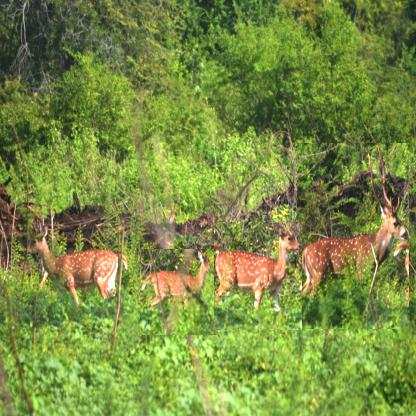Deer: (297, 144, 409, 330), (22, 222, 128, 326), (214, 222, 302, 330), (140, 249, 218, 335)
